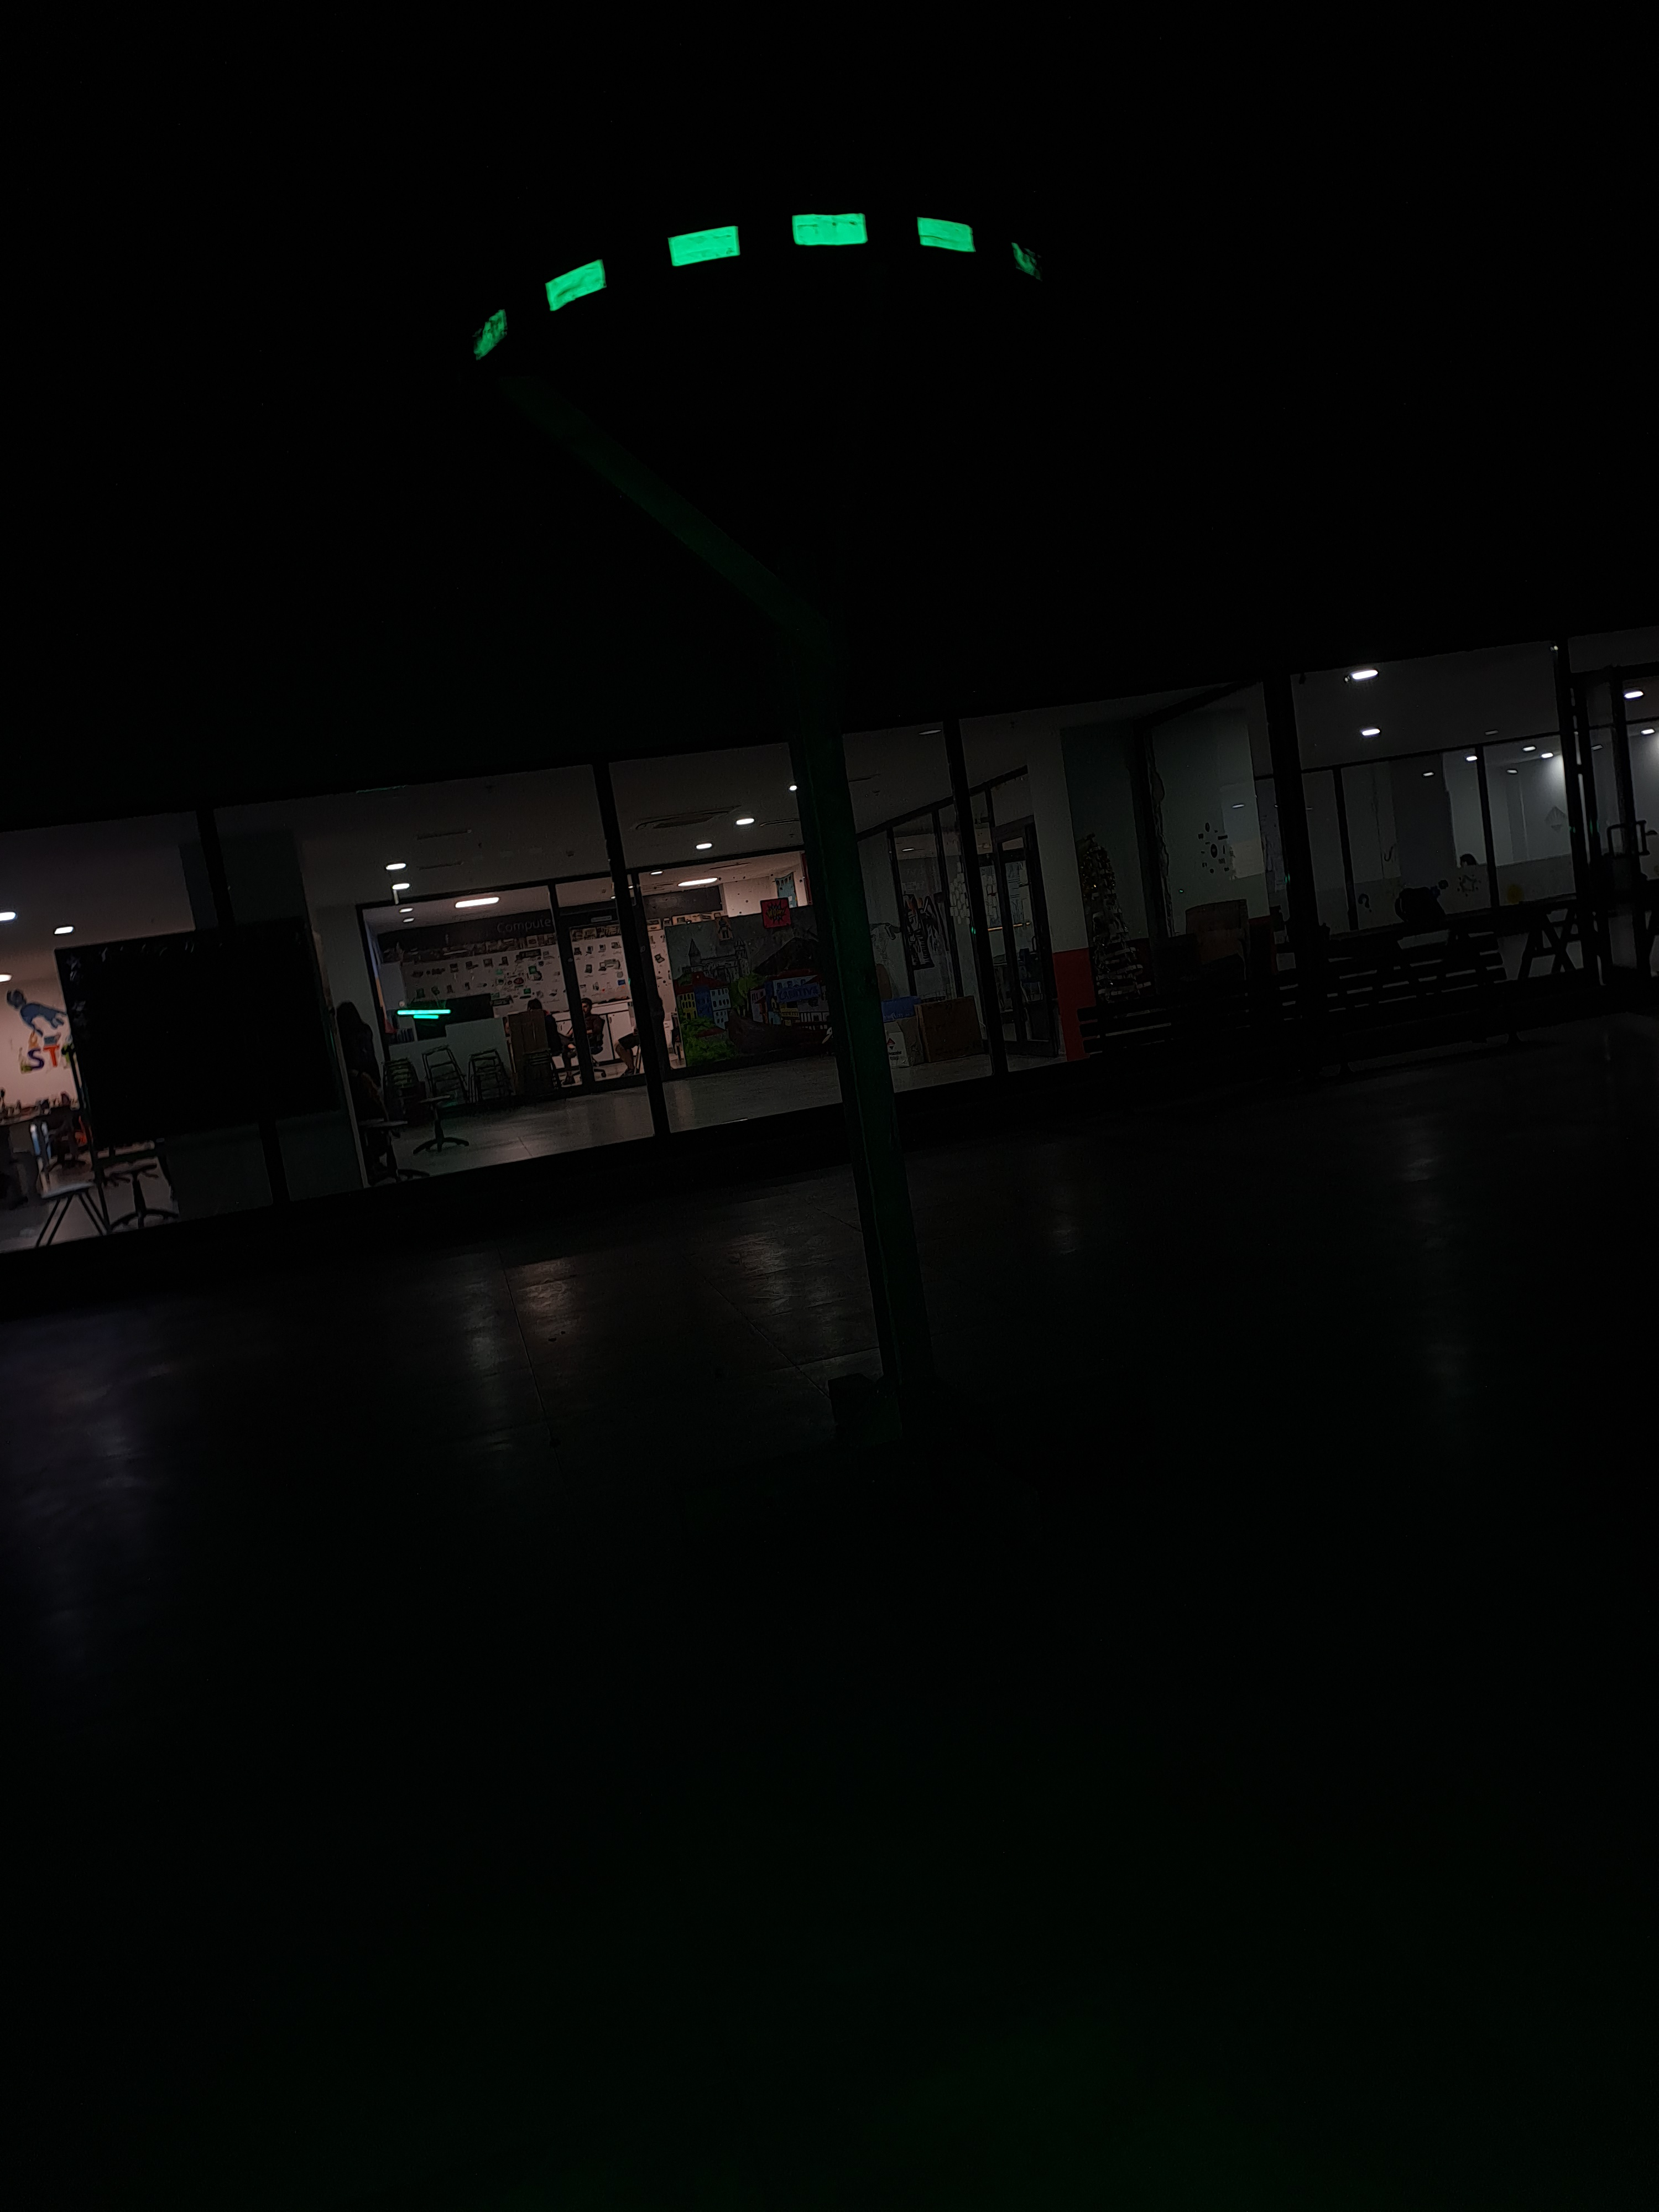hoop: (469, 207, 1042, 364)
